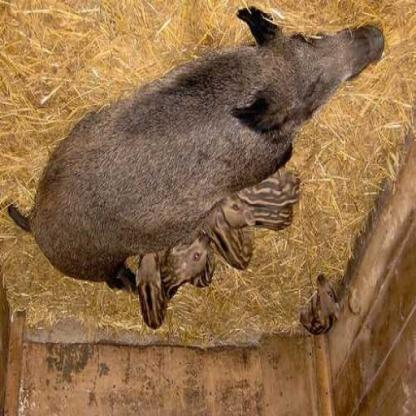boar: (56, 15, 395, 298), (116, 235, 167, 337), (220, 198, 298, 236), (162, 234, 208, 291)
